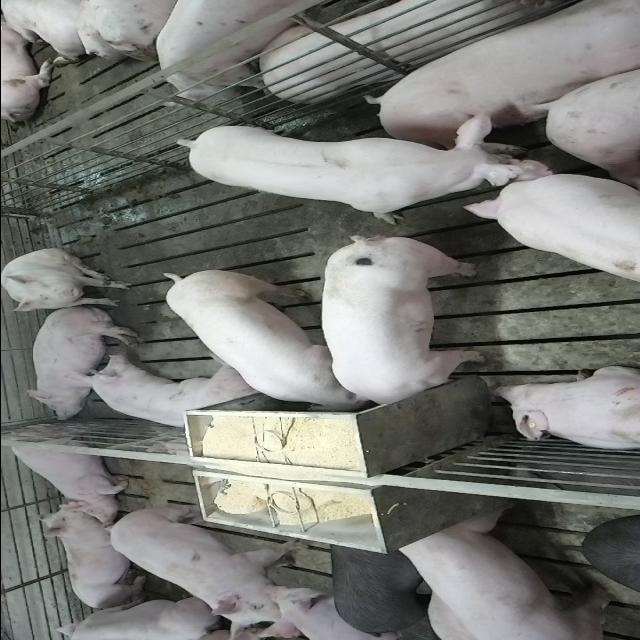Feeding: (160, 264, 366, 412), (318, 230, 484, 408)
Lateral_lying: (368, 4, 640, 162), (21, 306, 140, 420)
Sitting: (0, 424, 135, 516), (2, 248, 134, 314)
Standing: (174, 116, 563, 218), (394, 509, 626, 638), (100, 508, 320, 634), (462, 162, 640, 282), (158, 0, 348, 99), (323, 542, 442, 638)
Sternal_lying: (69, 356, 259, 434), (490, 365, 640, 453), (36, 504, 152, 612)
